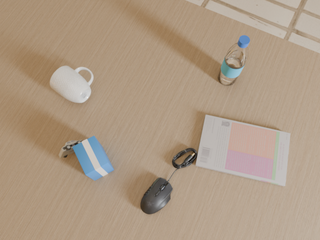book: (195, 115, 290, 186)
bottle: (218, 35, 250, 85)
box: (72, 136, 114, 180)
cup: (50, 66, 93, 103)
mouse: (141, 178, 173, 214)
toy_car: (59, 140, 82, 158)
